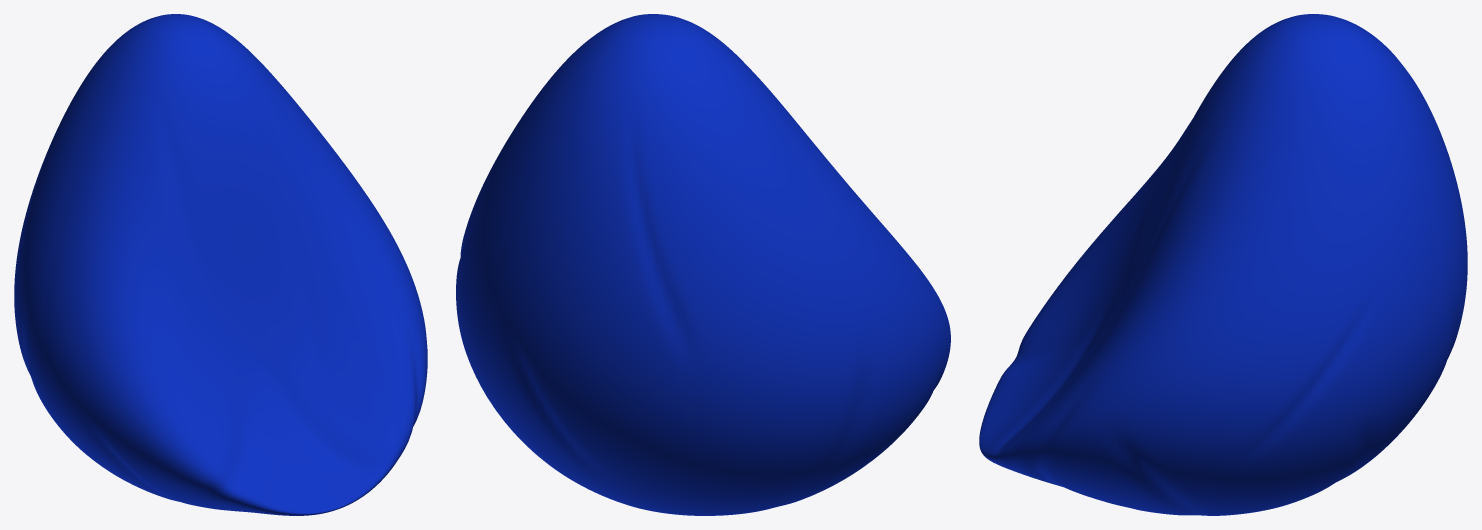
File: beanBag-1.glb
3 views of the same model, side by side, from view 1: azimuth 30°, elevation 25°; view 2: azimuth 150°, elevation 25°; view 3: azimuth 270°, elevation 25° (orthographic). The views are drawn at different scales.
Visible parts, largest first — view 1: beanBag_1_continuous_cloth; view 2: beanBag_1_continuous_cloth; view 3: beanBag_1_continuous_cloth.
Boxes of the visible parts, x1,y1,x2,y2 form: beanBag_1_continuous_cloth: (14,14,427,515); beanBag_1_continuous_cloth: (456,14,950,515); beanBag_1_continuous_cloth: (979,14,1467,515).
Bounding box in the file's own units: 0.88 × 0.96 × 0.96.
